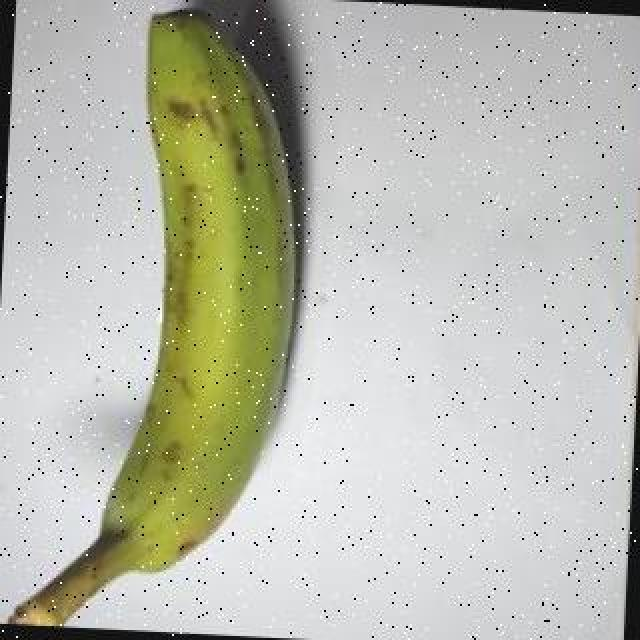Unripe: (8, 9, 297, 628)
